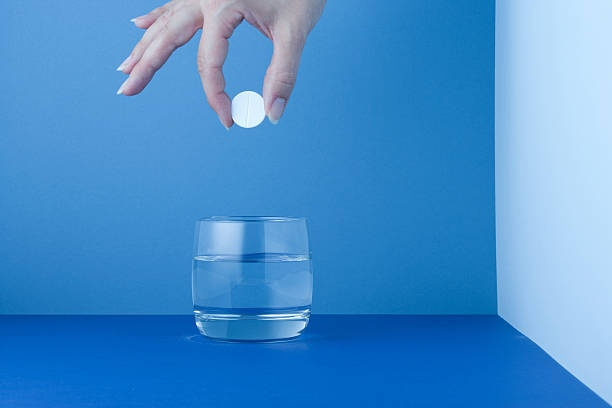pills: (231, 86, 269, 132)
